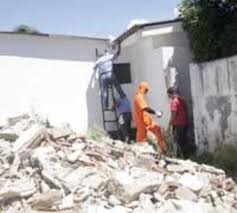rubble: (1, 115, 234, 213)
